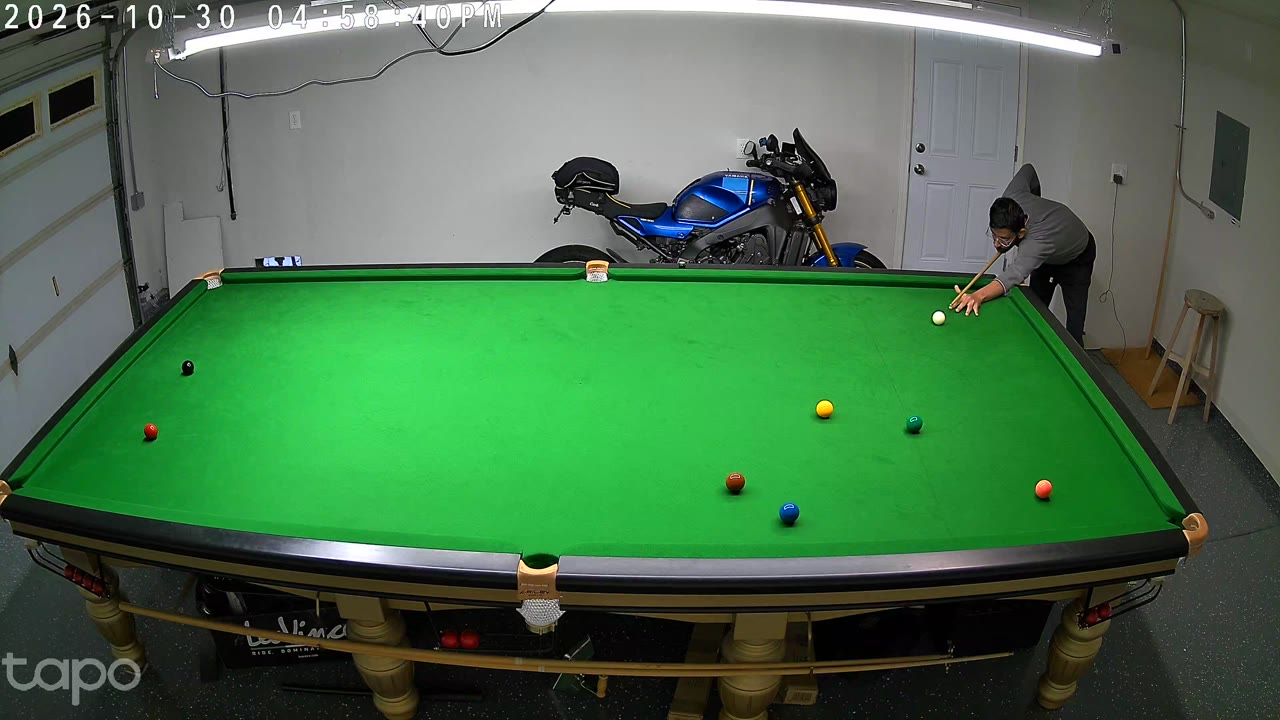black: (182, 358, 194, 378)
blue: (779, 499, 800, 528)
brown: (725, 470, 745, 497)
green: (906, 414, 922, 436)
red: (1035, 477, 1052, 502), (144, 422, 157, 442)
white: (933, 309, 945, 328)
yellow: (817, 399, 833, 421)
